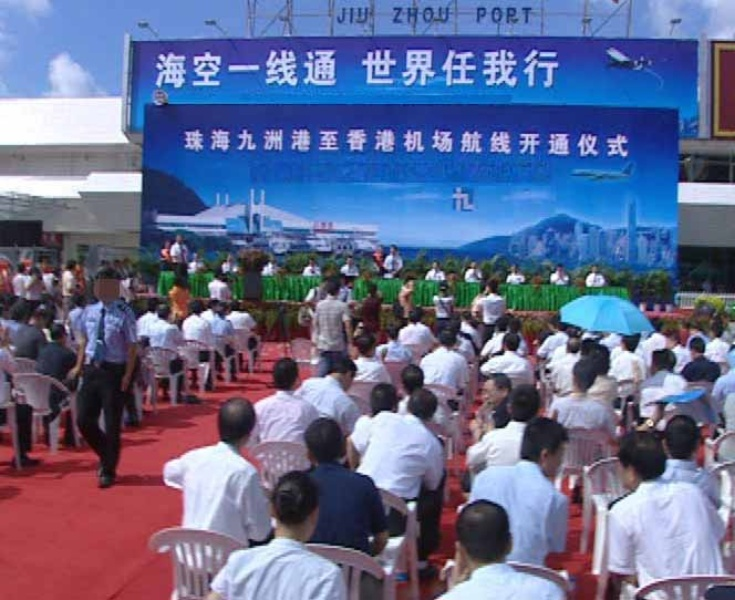text: (545, 49, 561, 89), (369, 49, 384, 89), (385, 49, 400, 89), (401, 49, 416, 89), (417, 49, 432, 89), (433, 49, 448, 89), (449, 49, 464, 89), (465, 49, 480, 89), (481, 49, 496, 89), (497, 49, 512, 89), (513, 49, 528, 89), (529, 49, 544, 89), (161, 51, 176, 88), (177, 51, 192, 88), (193, 51, 208, 88), (209, 51, 224, 88), (225, 51, 240, 88), (241, 51, 256, 88), (257, 51, 272, 88), (273, 51, 288, 88), (289, 51, 304, 88), (305, 51, 320, 88), (321, 51, 336, 88), (193, 128, 208, 158), (209, 128, 224, 158), (225, 128, 240, 158), (241, 128, 256, 158), (257, 128, 272, 158), (273, 128, 288, 158), (289, 128, 304, 158), (305, 128, 320, 158), (321, 128, 336, 158), (337, 128, 352, 158), (353, 128, 368, 158), (369, 128, 384, 158), (385, 128, 400, 158), (401, 128, 416, 158), (417, 128, 432, 158), (433, 128, 448, 158), (449, 128, 464, 158), (465, 128, 480, 158), (481, 128, 496, 158), (497, 128, 512, 158), (513, 128, 528, 158), (529, 128, 544, 158), (545, 128, 560, 158), (561, 128, 576, 158), (577, 128, 592, 158), (593, 128, 608, 158), (609, 128, 624, 158), (401, 5, 416, 25), (417, 5, 432, 25), (433, 5, 448, 25), (481, 5, 496, 25), (497, 5, 512, 25), (513, 5, 528, 25), (361, 49, 368, 89), (183, 128, 192, 158), (337, 8, 352, 26), (353, 8, 368, 26), (390, 5, 400, 25), (625, 128, 630, 158), (474, 5, 480, 25), (157, 51, 160, 88), (529, 5, 533, 25), (337, 51, 339, 88), (449, 5, 452, 25), (369, 8, 371, 26), (335, 8, 336, 26)
